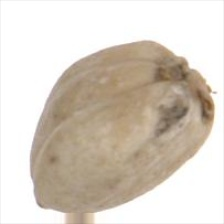L1: (162, 47, 210, 93), (25, 159, 44, 208)
L2: (29, 40, 215, 213)
